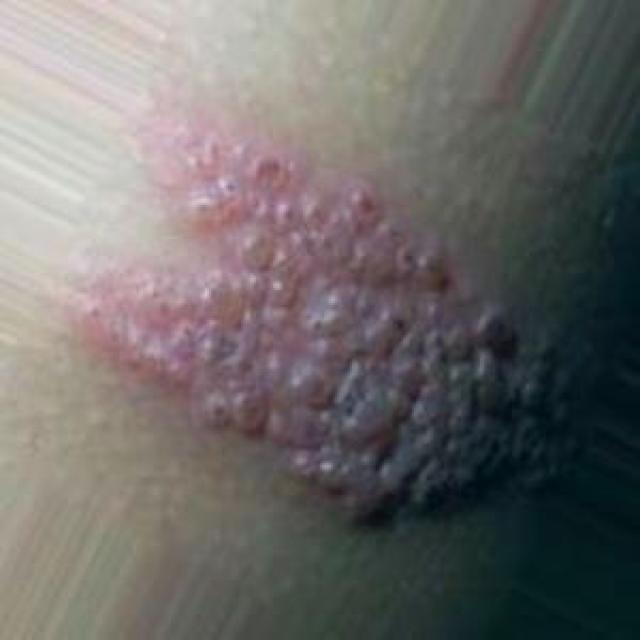Shingles: (78, 112, 562, 529)
